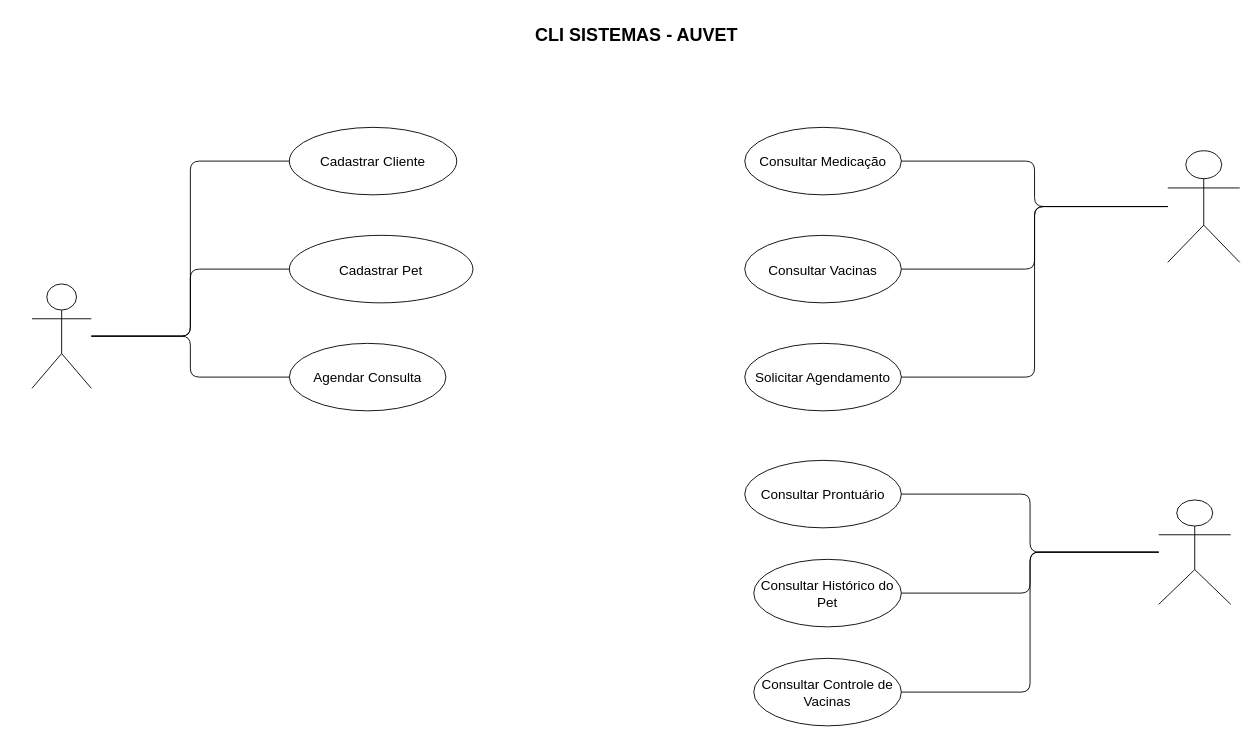
This 1256x742 diagram has some shape labels left out. The shapes that lost their labels are listed below. From the top down, each one's box as (x1, y1, x2, y2) in pixels, then its label:
(1167, 150, 1240, 262): Tutor
(31, 283, 91, 388): Recepcionista
(1158, 499, 1231, 604): Veterinário
